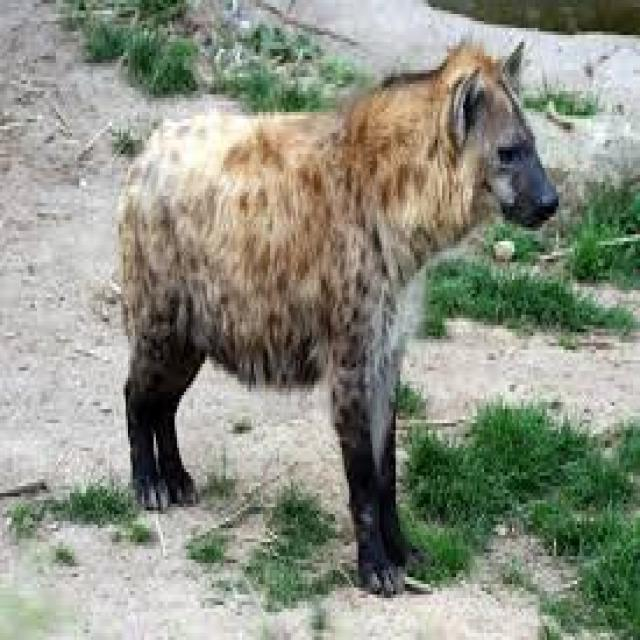Hyena: (111, 32, 559, 566)
